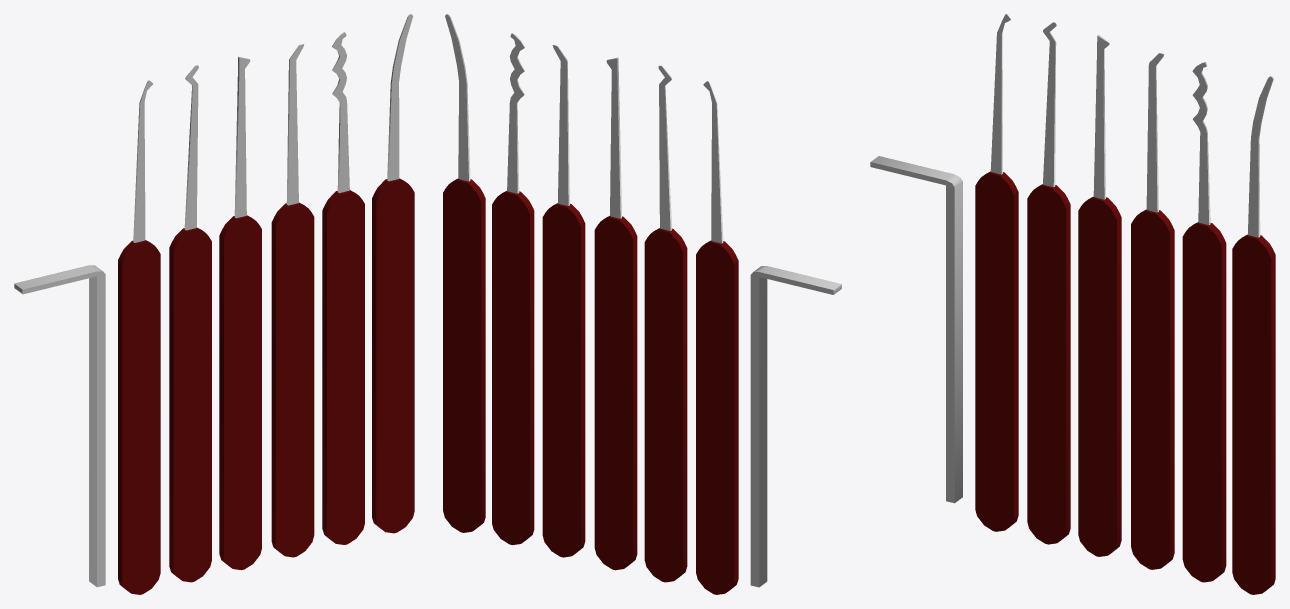
Rendered from lockpicking_set.glb.
3 views of the same model, side by side, from view 1: azimuth 30°, elevation 25°; view 2: azimuth 150°, elevation 25°; view 3: azimuth 330°, elevation 25° (orthographic).
Visible parts, largest first — view 1: ShortHook_3, Curve_5, HalfDiamond_2, Rake_4, HollowHalfDiamond_1, OffsetDiamondPick_0, TorsionWrench_6; view 2: HalfDiamond_2, ShortHook_3, HollowHalfDiamond_1, Curve_5, Rake_4, OffsetDiamondPick_0, TorsionWrench_6; view 3: Rake_4, HalfDiamond_2, ShortHook_3, Curve_5, HollowHalfDiamond_1, OffsetDiamondPick_0, TorsionWrench_6.
Part boxes in pixels (x1,y1,x2,y2): ShortHook_3: (271, 44, 314, 557); Curve_5: (372, 14, 414, 533); HalfDiamond_2: (219, 56, 261, 570); Rake_4: (322, 32, 364, 544); HollowHalfDiamond_1: (169, 65, 211, 582); OffsetDiamondPick_0: (118, 80, 160, 594); TorsionWrench_6: (14, 265, 105, 587); HalfDiamond_2: (594, 57, 637, 570); ShortHook_3: (542, 45, 585, 557); HollowHalfDiamond_1: (644, 65, 687, 582); Curve_5: (443, 14, 485, 532); Rake_4: (492, 33, 534, 544); OffsetDiamondPick_0: (696, 81, 738, 594); TorsionWrench_6: (750, 266, 841, 587); Rake_4: (1182, 62, 1226, 582); HalfDiamond_2: (1078, 35, 1121, 556); ShortHook_3: (1131, 53, 1174, 569); Curve_5: (1232, 76, 1275, 594); HollowHalfDiamond_1: (1027, 22, 1070, 544); OffsetDiamondPick_0: (975, 14, 1018, 531); TorsionWrench_6: (870, 156, 962, 503).
Bounding box in the file's own units: 2.43 × 3.03 × 0.0869.
2 materials, 1 textured.
